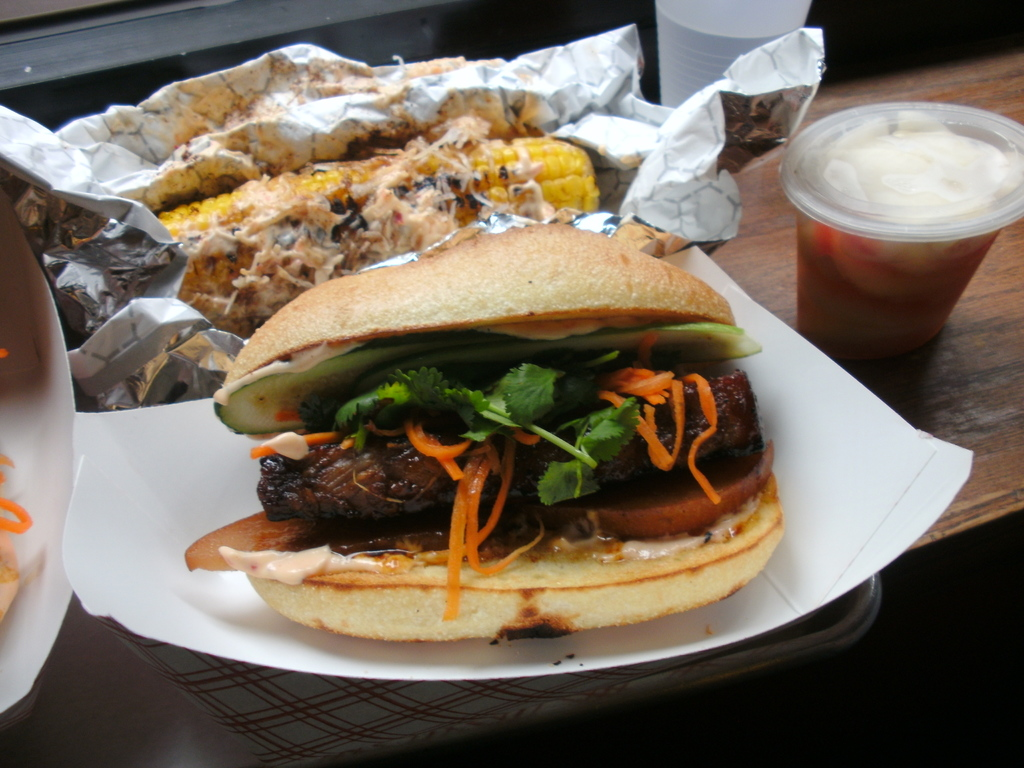Hamburger: (183, 222, 786, 644)
